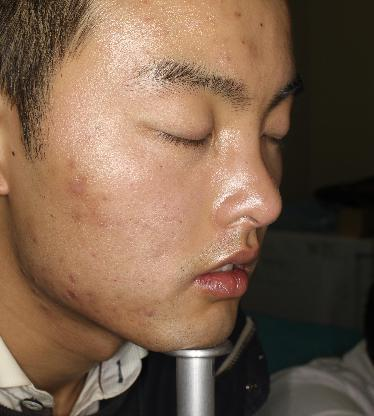Blackheads: (232, 7, 249, 22), (238, 35, 251, 50), (256, 18, 268, 31)
Dark-Spots: (8, 147, 22, 162)
Nodules: (61, 286, 82, 303)
acne scar: (64, 173, 95, 201), (140, 303, 159, 324), (64, 269, 82, 287), (28, 233, 43, 248)
